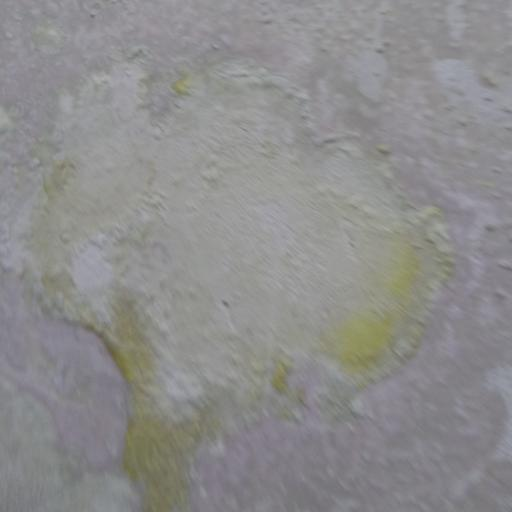algae: (44, 81, 453, 477)
